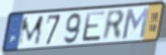7: (45, 14, 63, 46)
9: (63, 12, 83, 45)
E: (81, 10, 107, 43)
M: (122, 6, 151, 41), (16, 14, 45, 48)
R: (101, 9, 126, 43)
